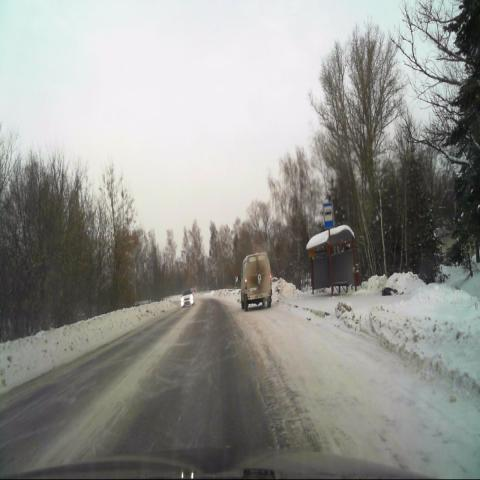5_16: (324, 203, 332, 228)
